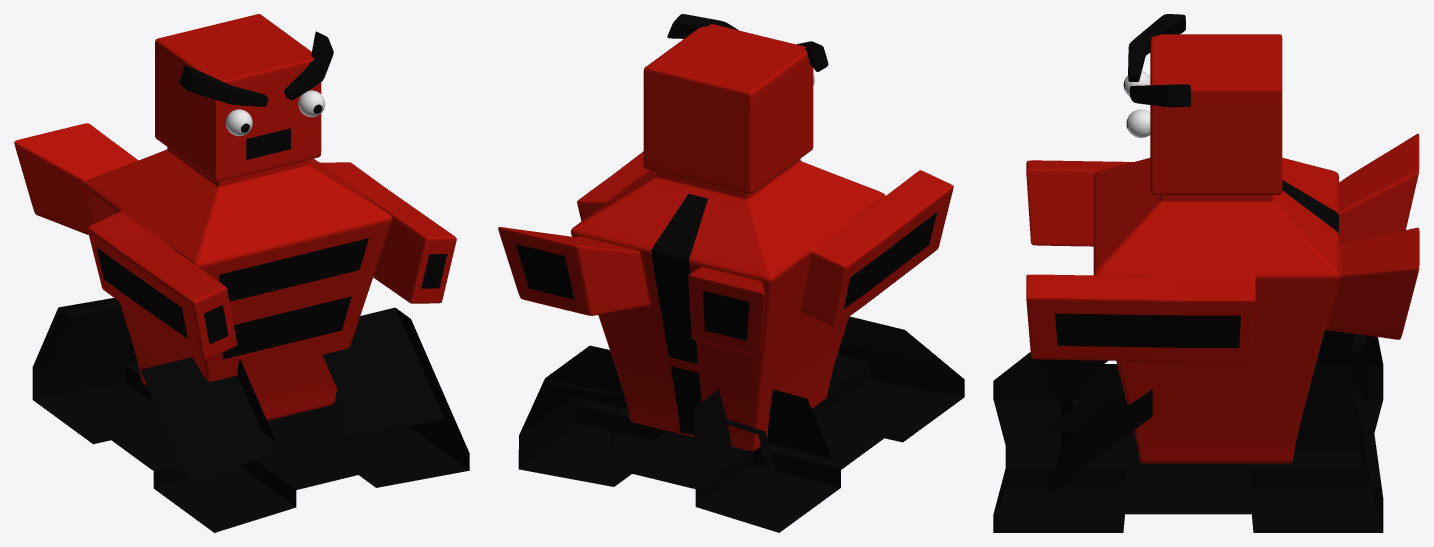
File: nefor.fbx
3 renders of one model, left to right at view 1: azimuth 30°, elevation 25°; view 2: azimuth 150°, elevation 25°; view 3: azimuth 270°, elevation 25°, orthographic. The views are drawn at different scales.
Parts seen in each view (by area): view 1: Cube, Plane; view 2: Cube, Plane; view 3: Cube, Plane.
Part boxes in pixels (box(x1,y1,x2,y2)): Cube: box(14, 14, 456, 420); Plane: box(32, 298, 469, 532); Cube: box(498, 14, 953, 451); Plane: box(518, 316, 964, 532); Cube: box(1026, 14, 1419, 463); Plane: box(993, 330, 1383, 532).
Bounding box in the file's own units: 207 × 291 × 270.
